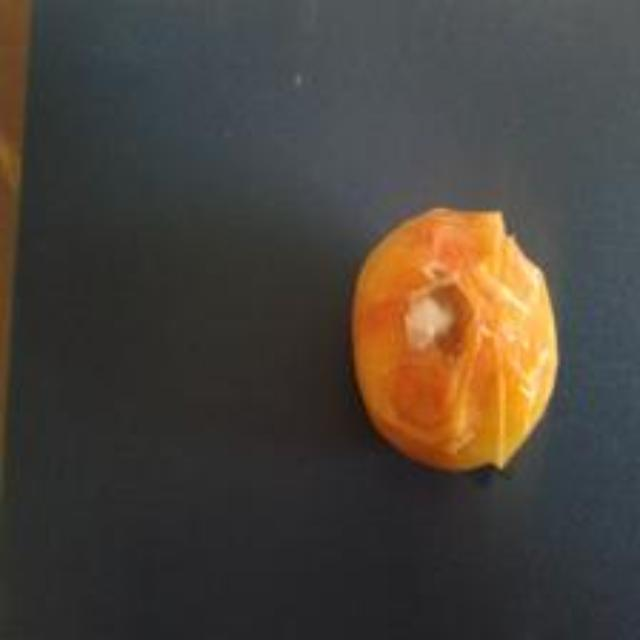defect: (344, 203, 564, 476)
